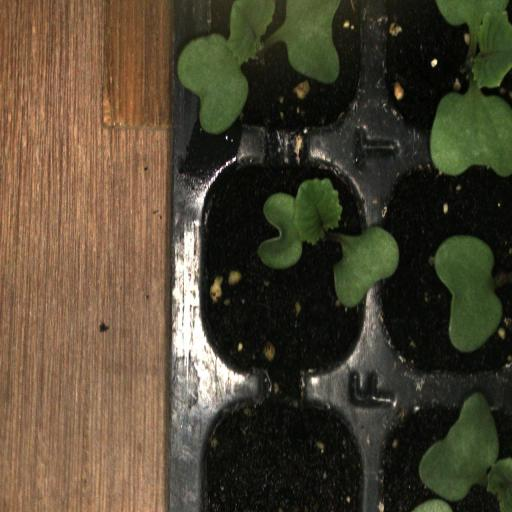Folha: (413, 392, 512, 512), (430, 235, 502, 352), (258, 178, 342, 269), (334, 225, 399, 308)
Germinacao: (186, 148, 384, 393), (187, 0, 387, 150), (386, 0, 512, 148)
